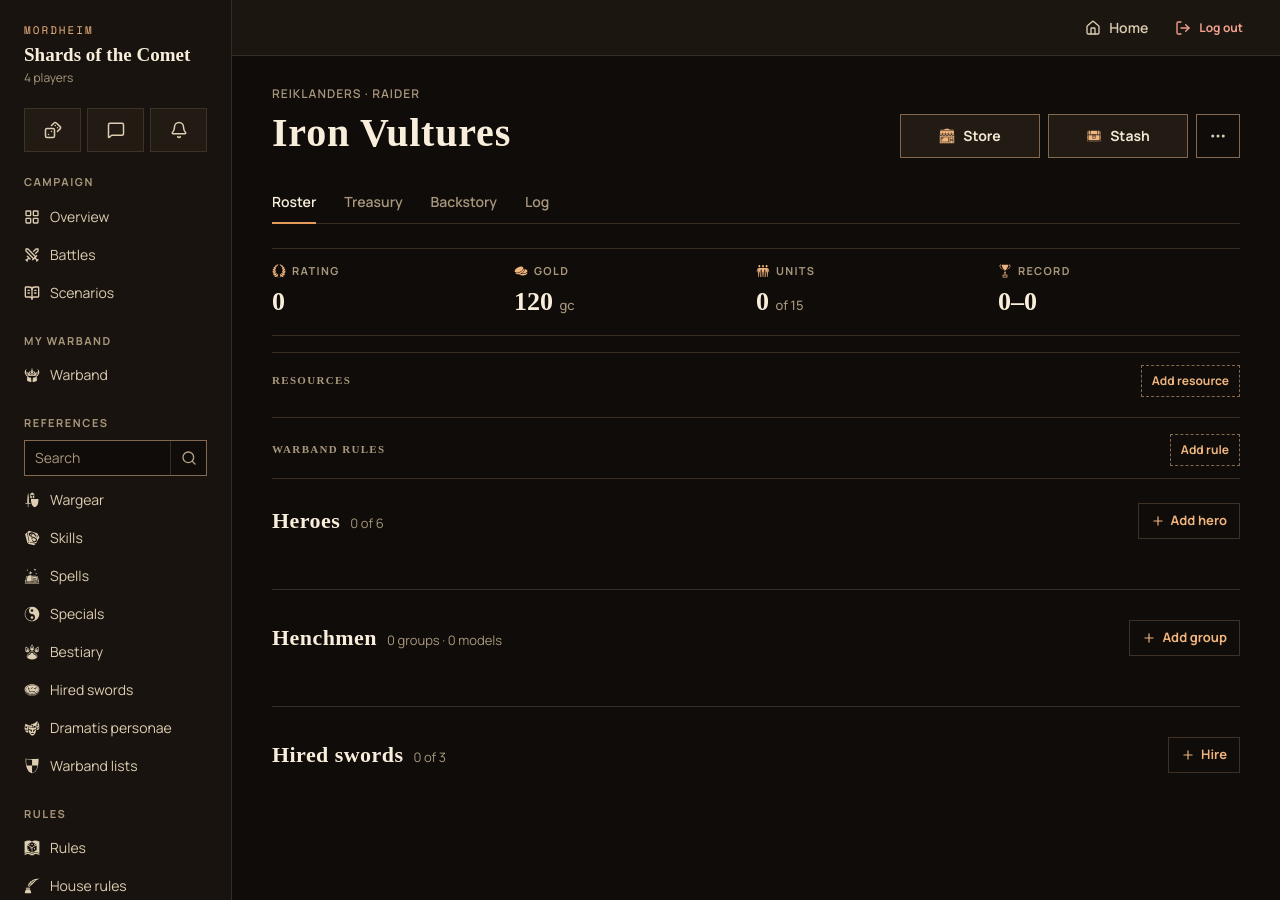
the warband page and the workshop › copies my own campaign warband into my workshop and opens the copy there
Click the button named "More warband actions" at (1218, 136), box [1196, 114, 1240, 158]
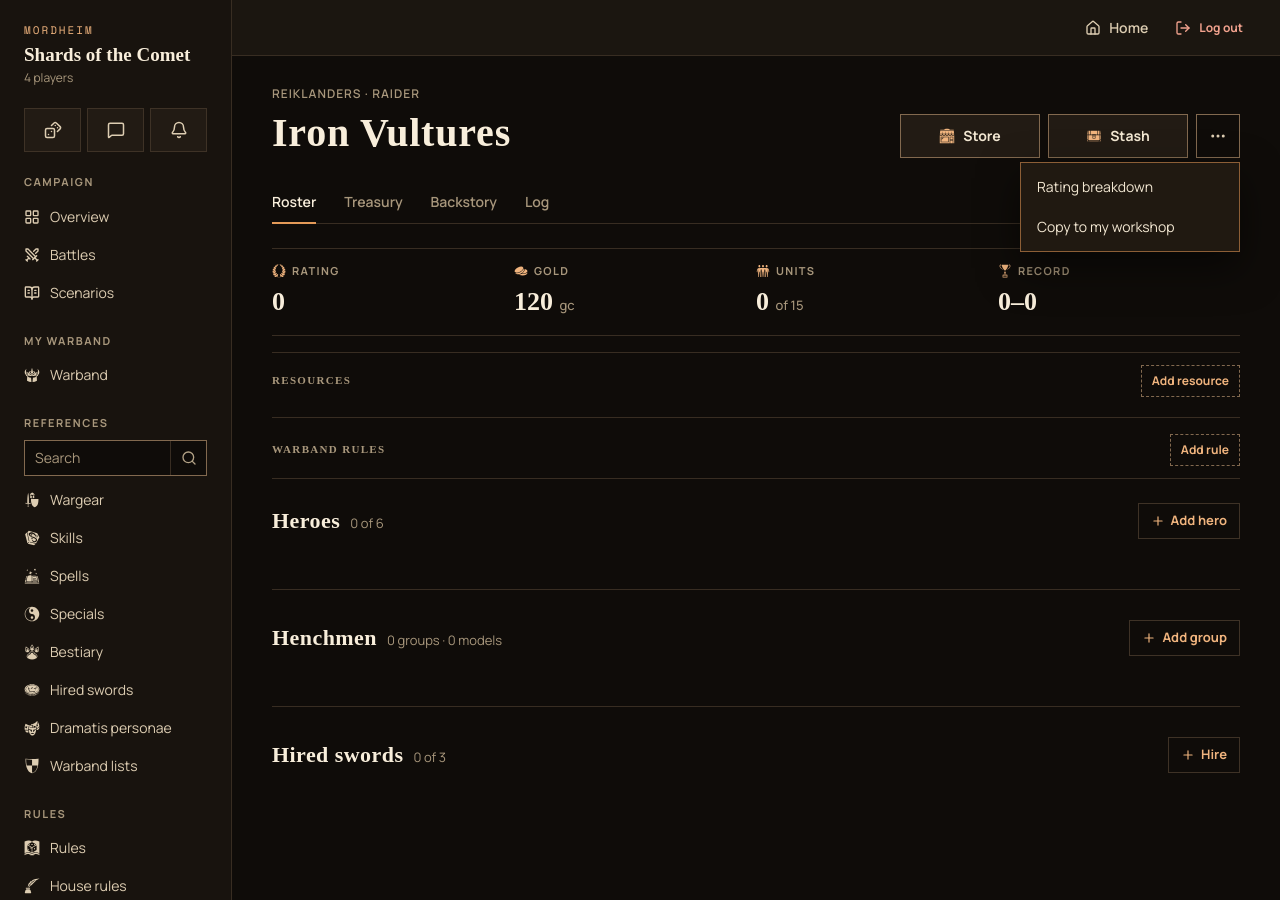
Click the menu item "Copy to my workshop" at (1106, 226), box [1037, 217, 1174, 236]
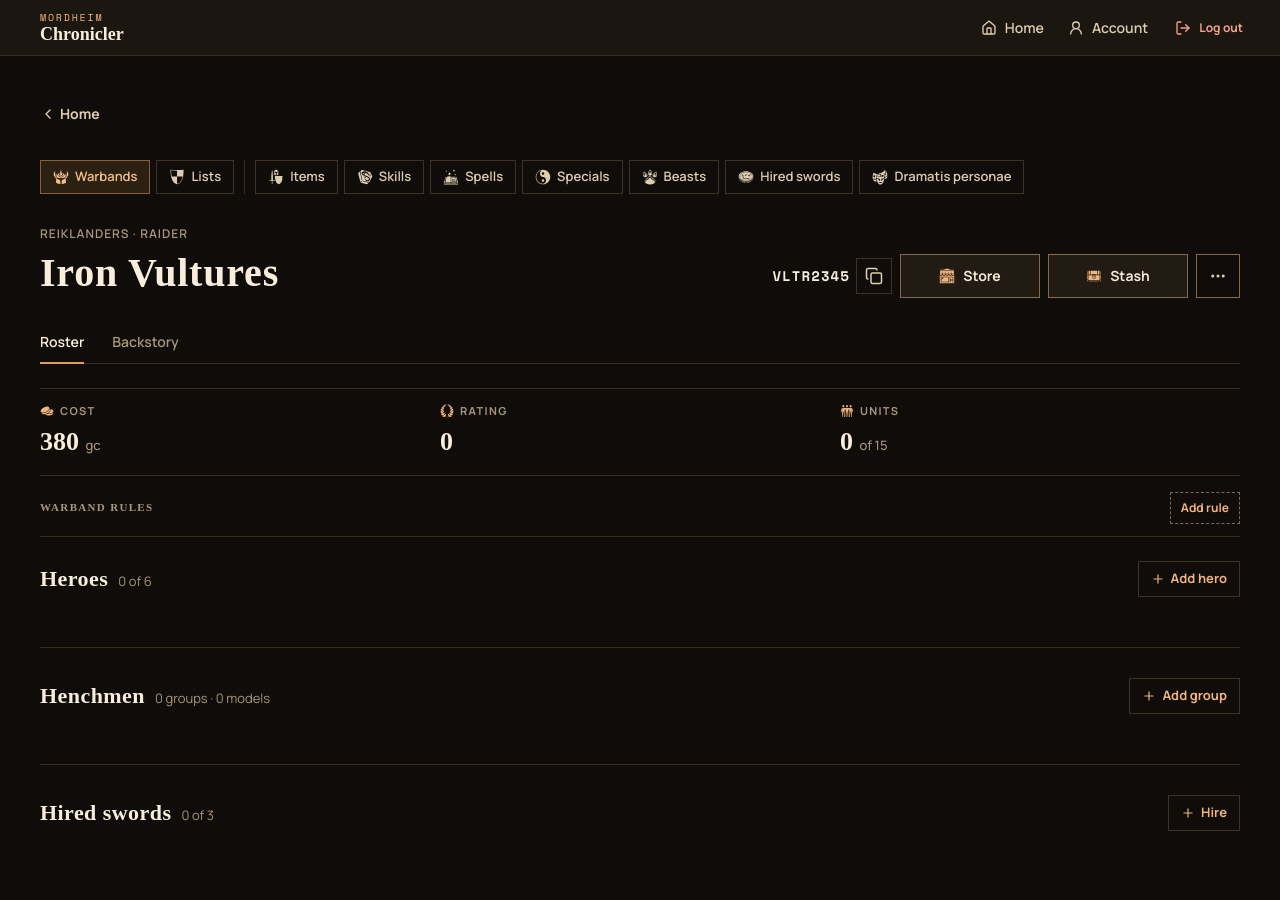
Check: the text "VLTR2345" is shown, box [772, 266, 850, 286]
